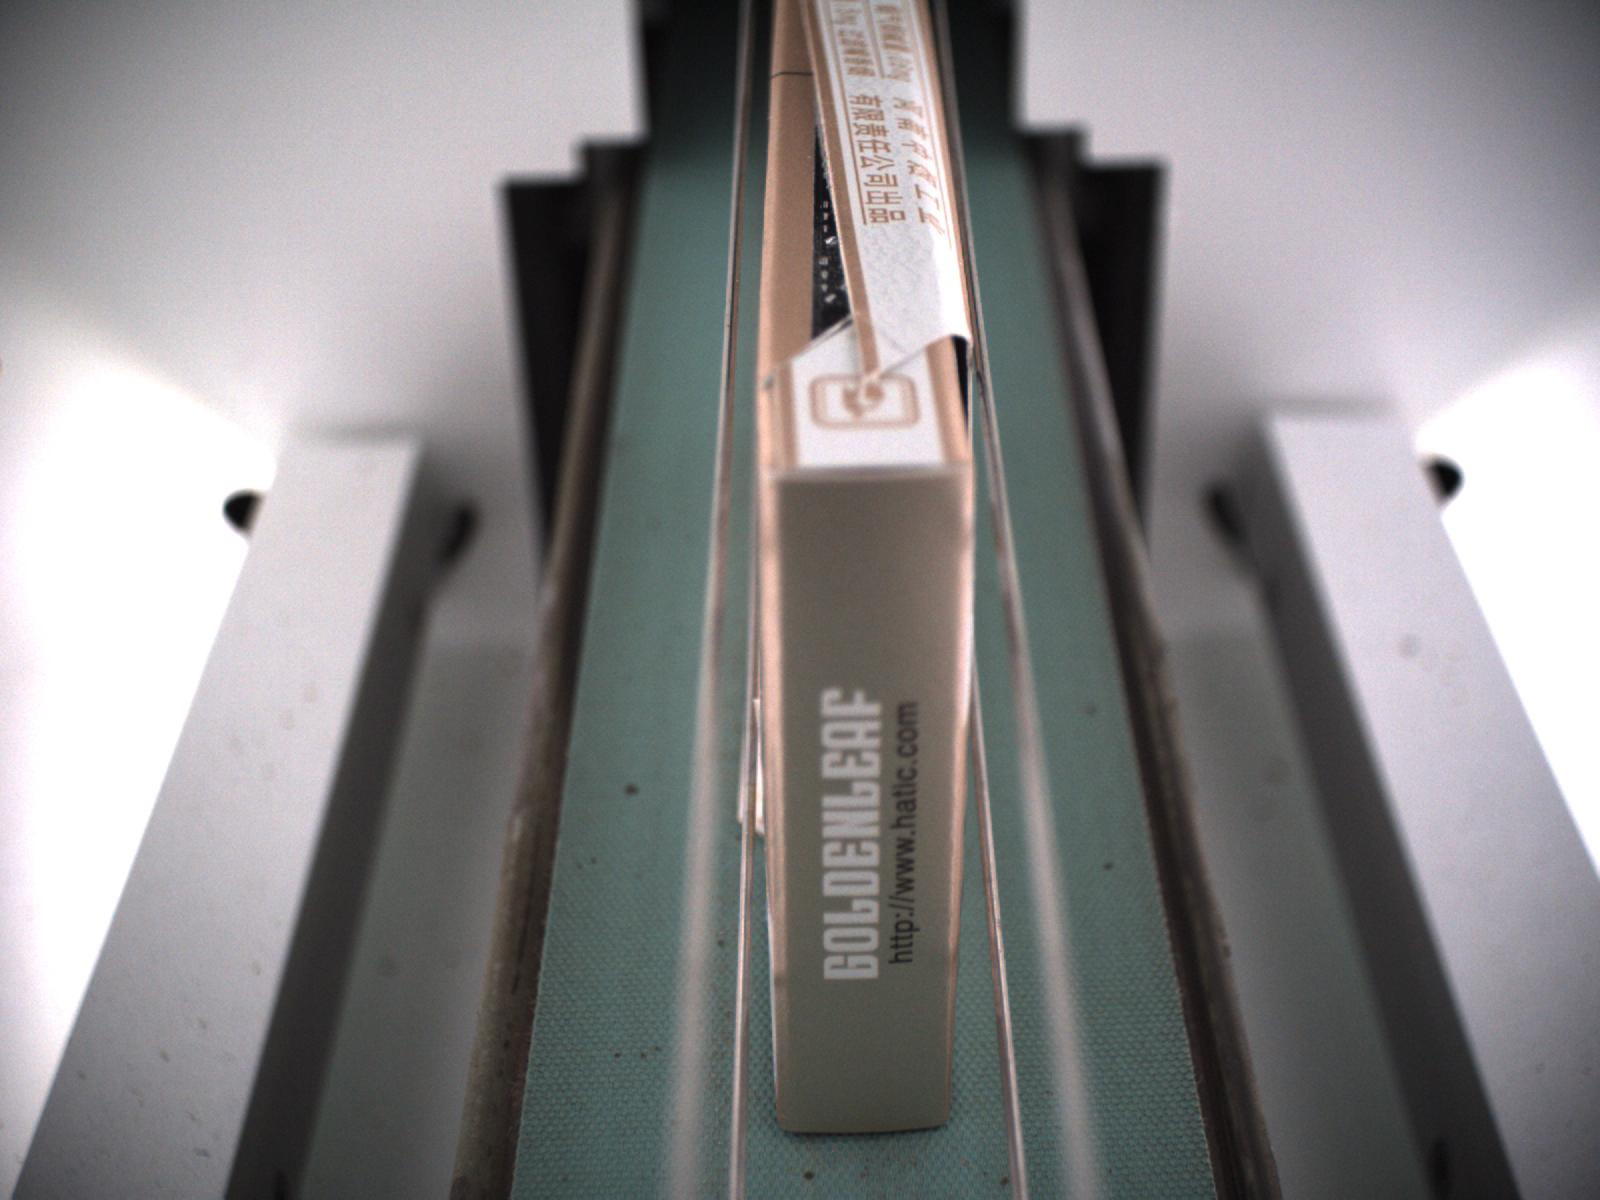boxDamage_back_heavy: (765, 5, 888, 392)
